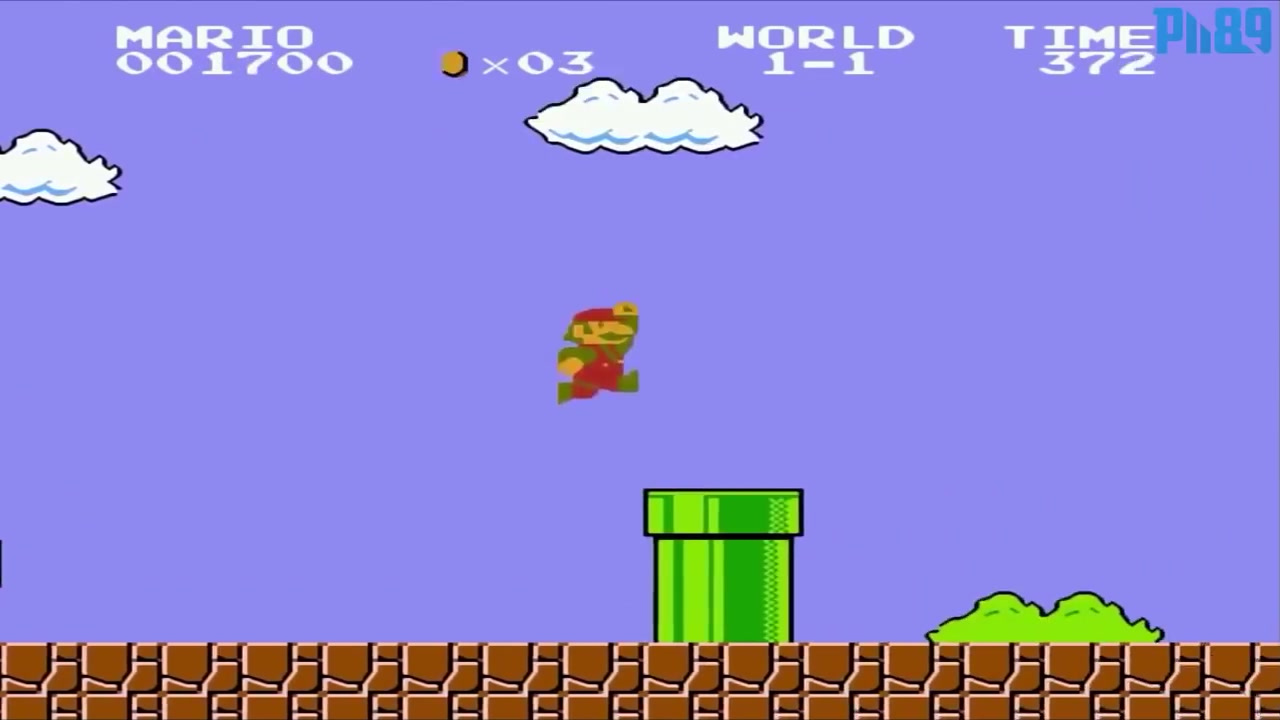mario: (549, 298, 647, 411)
